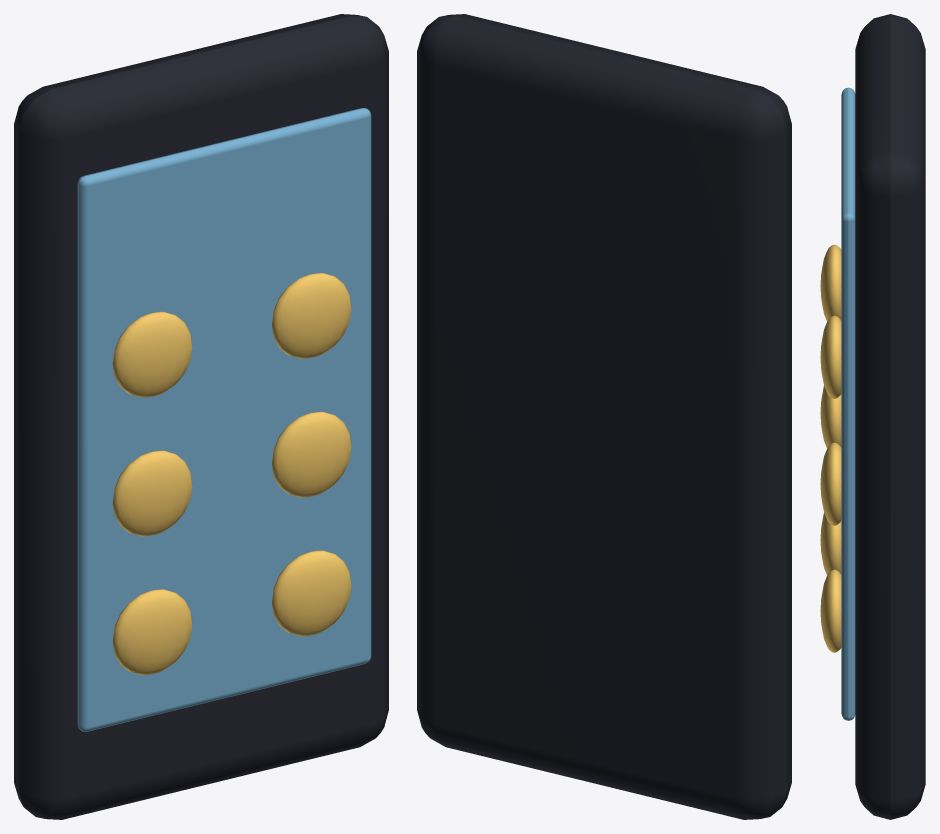
Rendered from word-phone.glb.
The picture shows the model from 3 angles, left to right: view 1: azimuth 30°, elevation 25°; view 2: azimuth 150°, elevation 25°; view 3: azimuth 270°, elevation 25°; orthographic projection. The views are drawn at different scales.
Parts seen in each view (by area): view 1: phone screen, phone, app icon.002, app icon.005, app icon, app icon.003, app icon.001, app icon.004; view 2: phone; view 3: phone, phone screen, app icon.003, app icon.005, app icon.004, app icon.002, app icon, app icon.001.
Part boxes in pixels (x1=…): phone screen: x1=77, y1=108, x2=371, y2=731; phone: x1=14, y1=14, x2=388, y2=819; app icon.002: x1=112, y1=311, x2=192, y2=397; app icon.005: x1=272, y1=273, x2=351, y2=358; app icon: x1=112, y1=589, x2=192, y2=675; app icon.003: x1=272, y1=550, x2=351, y2=636; app icon.001: x1=112, y1=450, x2=192, y2=536; app icon.004: x1=272, y1=411, x2=351, y2=497; phone: x1=417, y1=14, x2=791, y2=819; phone: x1=855, y1=14, x2=925, y2=819; phone screen: x1=841, y1=87, x2=855, y2=720; app icon.003: x1=820, y1=569, x2=841, y2=652; app icon.005: x1=820, y1=315, x2=841, y2=398; app icon.004: x1=820, y1=442, x2=841, y2=525; app icon.002: x1=820, y1=244, x2=841, y2=321; app icon: x1=820, y1=513, x2=841, y2=575; app icon.001: x1=820, y1=386, x2=841, y2=448.
Bounding box in the file's own units: 0.55 × 1.05 × 0.15.
